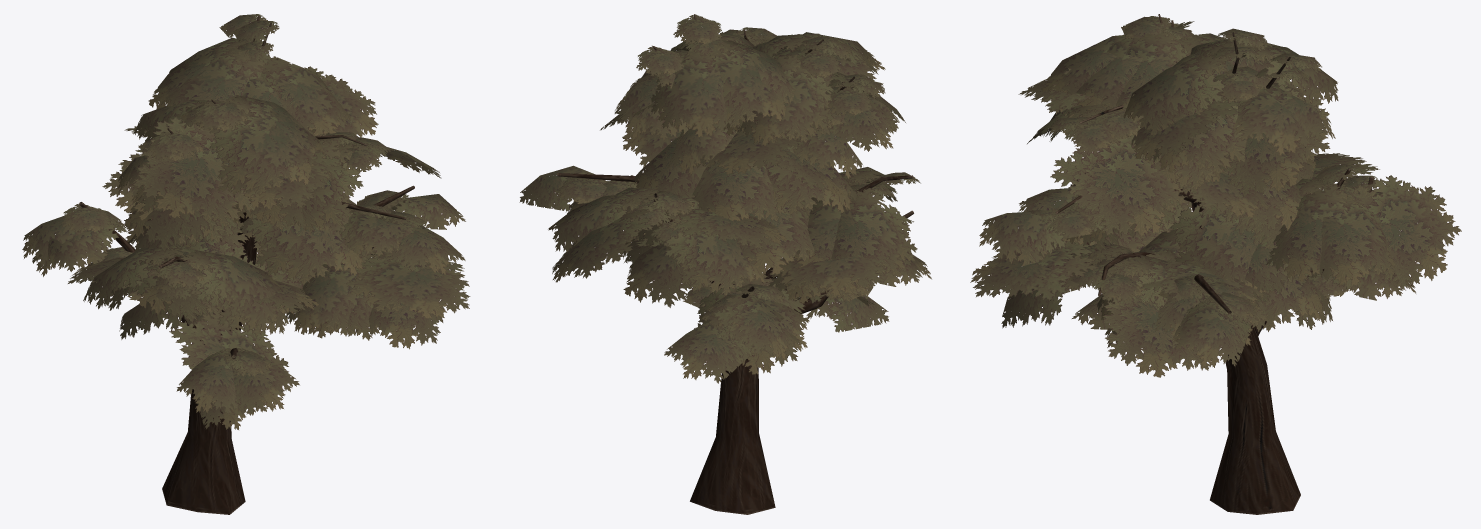
The model's file is Tree_03.fbx.
3 renders of one model, left to right at view 1: azimuth 30°, elevation 25°; view 2: azimuth 150°, elevation 25°; view 3: azimuth 270°, elevation 25°, orthographic. The views are drawn at different scales.
Parts seen in each view (by area): view 1: Tree_03_LOD0; view 2: Tree_03_LOD0; view 3: Tree_03_LOD0.
Boxes of the visible parts, x1,y1,x2,y2 form: Tree_03_LOD0: [22, 14, 470, 514]; Tree_03_LOD0: [519, 14, 931, 514]; Tree_03_LOD0: [970, 14, 1461, 514].
Size of what is drawn, in the model's own units: 267 by 306 by 282.
